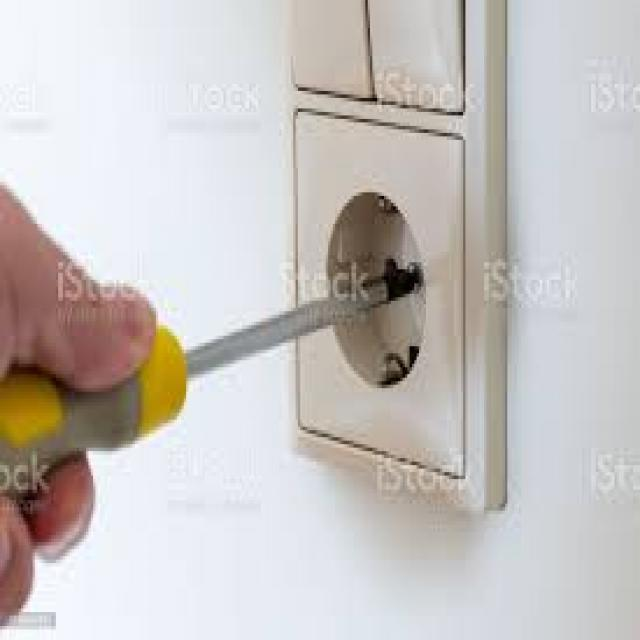screwdriver: (0, 248, 419, 454)
